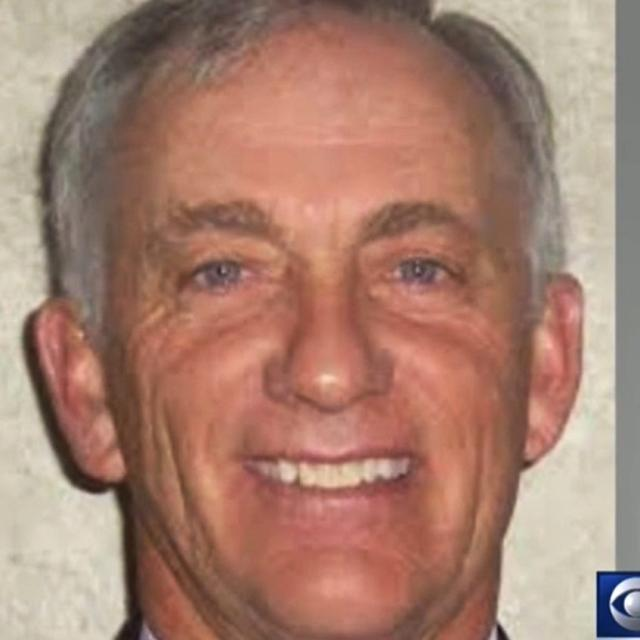Normal: (97, 12, 535, 639)
